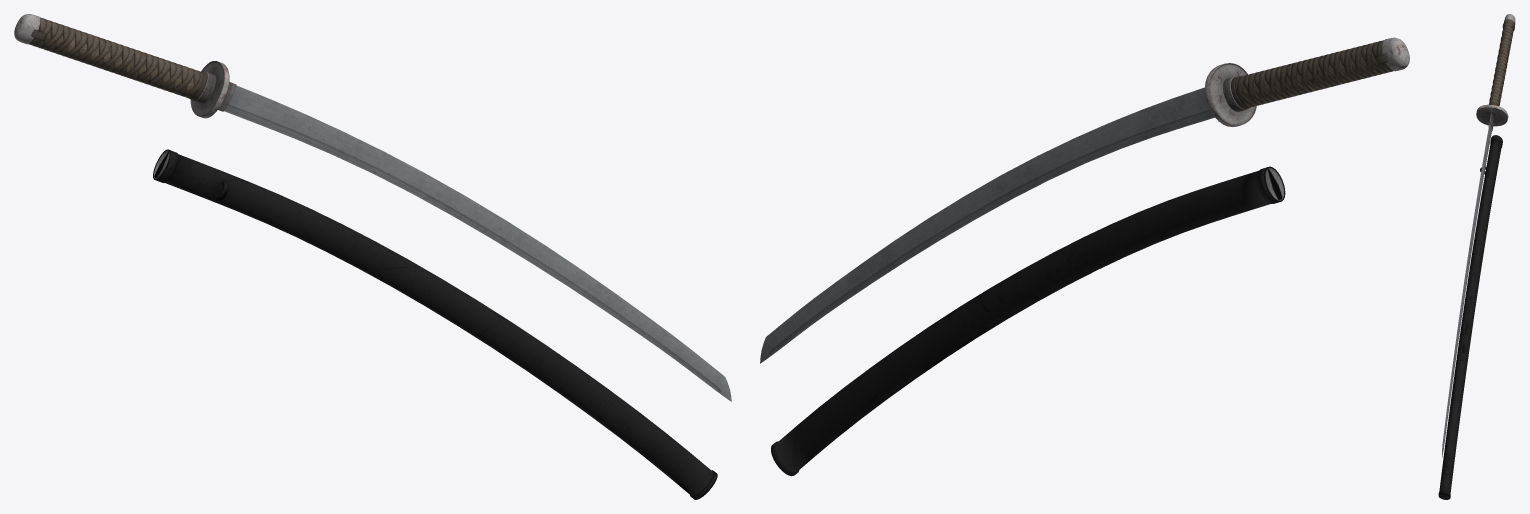
Rendered from katana.glb.
3 views of the same model, side by side, from view 1: azimuth 30°, elevation 25°; view 2: azimuth 150°, elevation 25°; view 3: azimuth 270°, elevation 25° (orthographic). The views are drawn at different scales.
Visible parts, largest first — view 1: Saya_low, Nagasa_low, Tsuka ito_low, Tsuka_low, Tsuba_low; view 2: Saya_low, Nagasa_low, Tsuka ito_low, Tsuba_low, Tsuka_low, Kashira_low; view 3: Saya_low, Nagasa_low, Tsuka ito_low, Tsuba_low.
Part boxes in pixels (x1=…): Saya_low: x1=153, y1=149, x2=717, y2=499; Nagasa_low: x1=224, y1=85, x2=731, y2=401; Tsuka ito_low: x1=28, y1=17, x2=207, y2=100; Tsuka_low: x1=32, y1=27, x2=216, y2=103; Tsuba_low: x1=190, y1=61, x2=229, y2=118; Saya_low: x1=771, y1=166, x2=1285, y2=476; Nagasa_low: x1=760, y1=87, x2=1214, y2=363; Tsuka ito_low: x1=1231, y1=40, x2=1393, y2=108; Tsuba_low: x1=1205, y1=63, x2=1256, y2=126; Tsuka_low: x1=1223, y1=50, x2=1385, y2=111; Kashira_low: x1=1382, y1=37, x2=1409, y2=71; Saya_low: x1=1438, y1=135, x2=1502, y2=499; Nagasa_low: x1=1442, y1=122, x2=1491, y2=457; Tsuka ito_low: x1=1489, y1=19, x2=1514, y2=106; Tsuba_low: x1=1476, y1=104, x2=1508, y2=126.
Size of the model in its own units: 3.56 by 3.07 by 0.662.
1 material, 1 textured.
